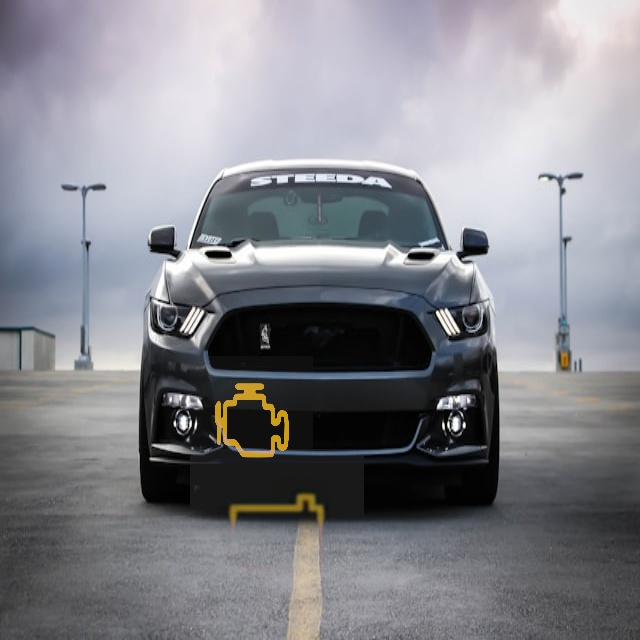symbol: (190, 449, 364, 623), (190, 356, 313, 479)
